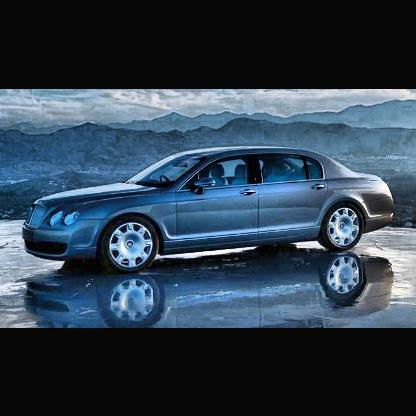Bentley Continental Flying Spur Sedan 2007: (24, 145, 395, 273)
